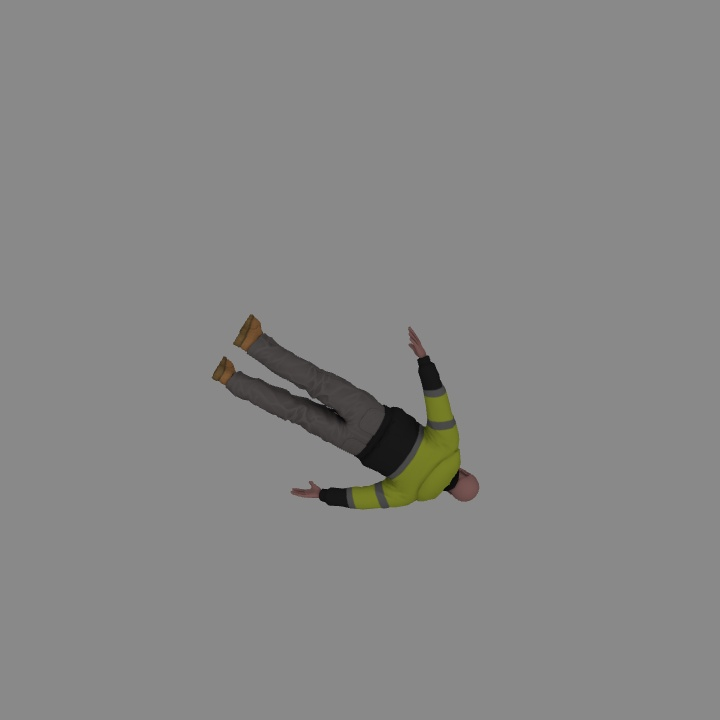victim: (214, 314, 481, 505)
